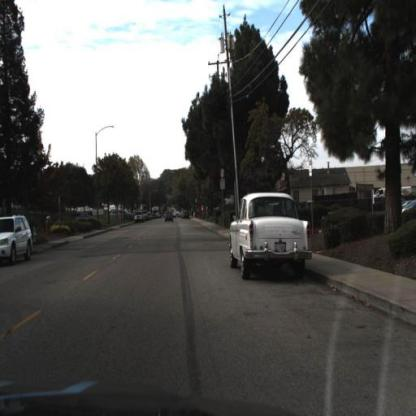car: (228, 192, 312, 282), (1, 214, 34, 266), (164, 210, 178, 228), (133, 209, 145, 224)
